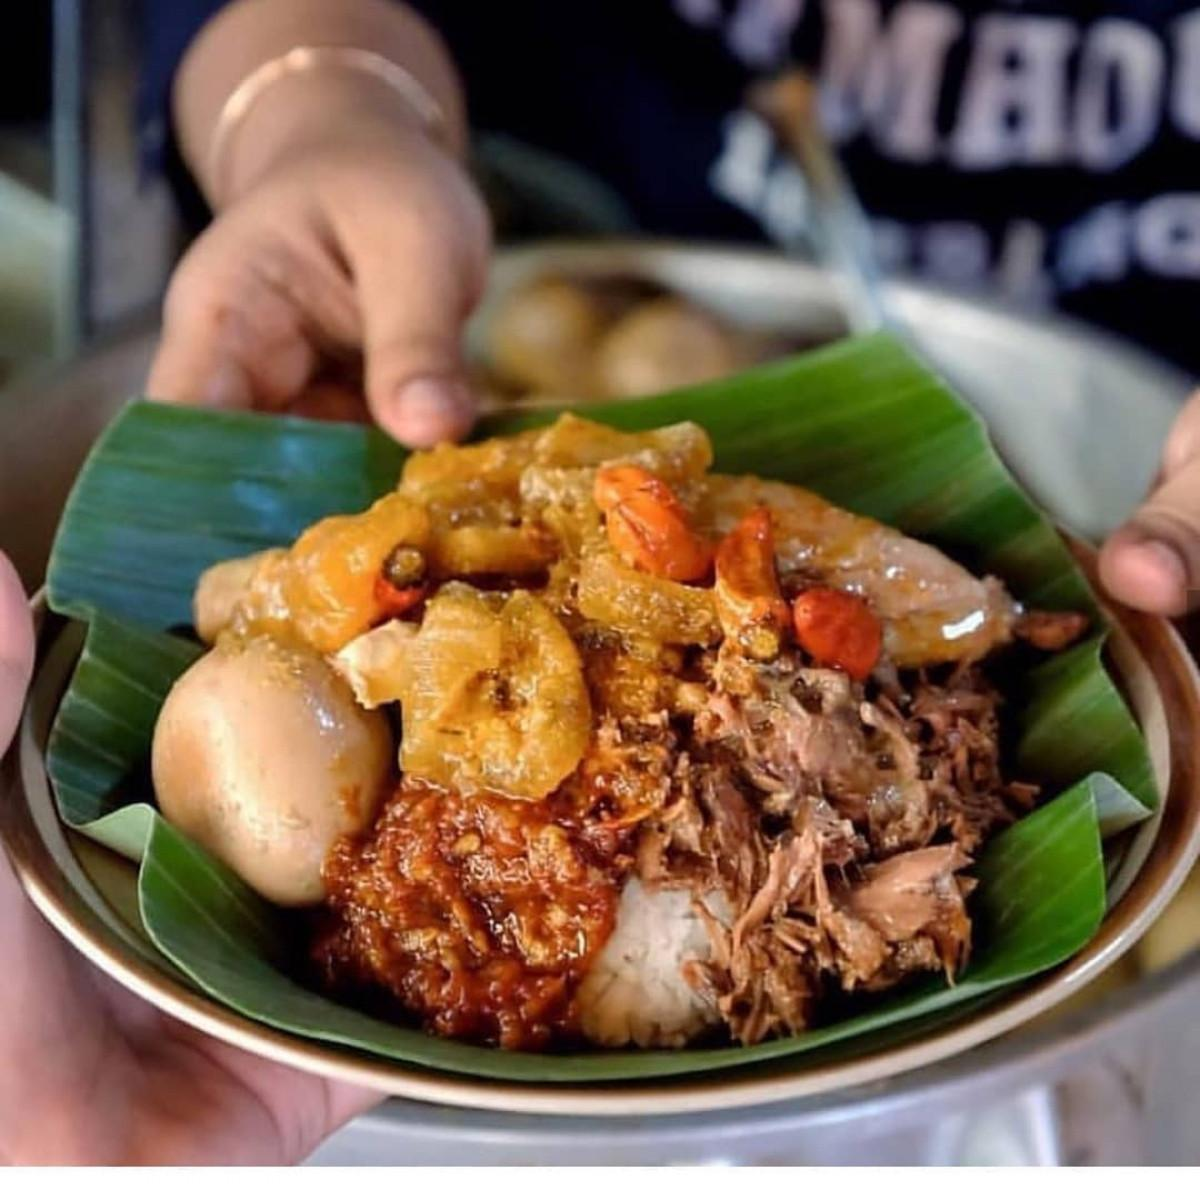gudeg: (148, 413, 1090, 1052)
